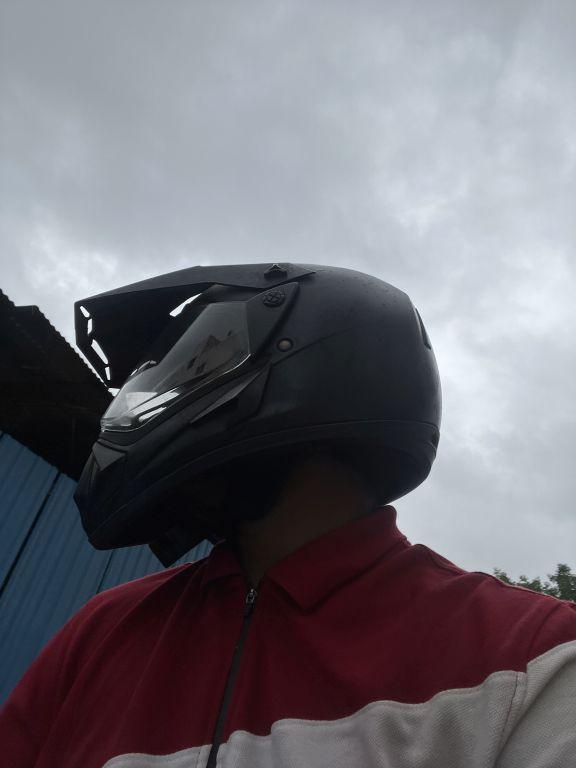helmet: (59, 245, 462, 567)
